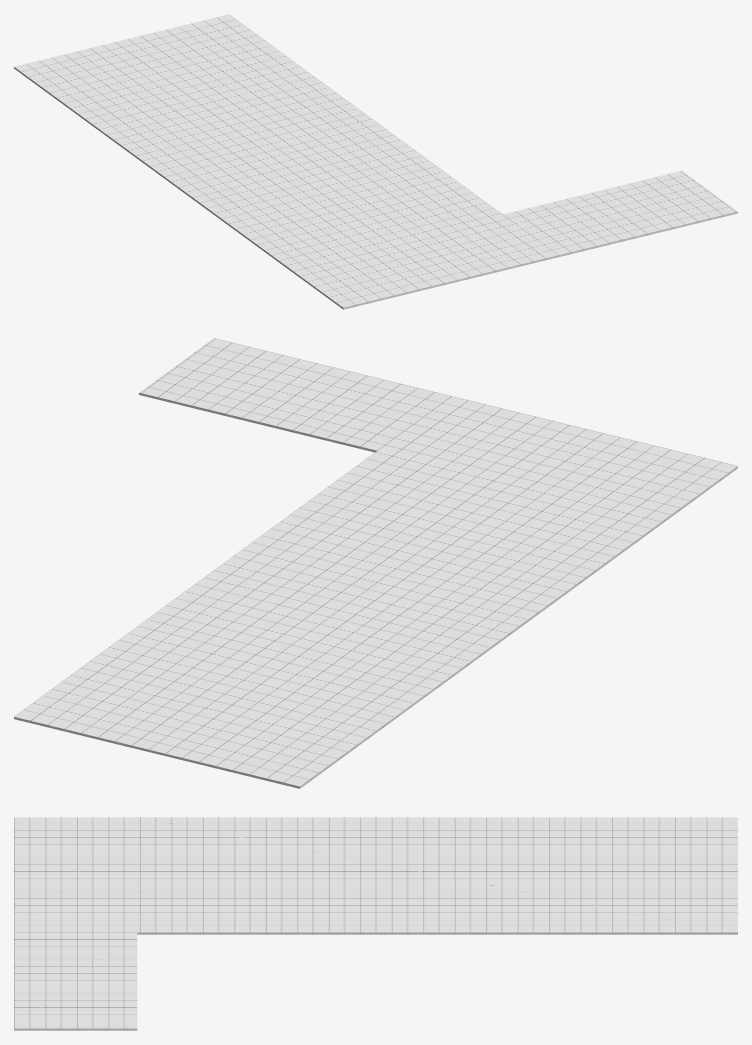
Rendered from Floor.FBX.
3 views of the same model, one above another, from view 1: azimuth 30°, elevation 25°; view 2: azimuth 150°, elevation 25°; view 3: azimuth 270°, elevation 25° (orthographic). The views are drawn at different scales.
Parts seen in each view (by area): view 1: Floor; view 2: Floor; view 3: Floor.
Boxes of the visible parts, box(x1,y1,x2,y2) form: Floor: box(14, 14, 737, 309); Floor: box(14, 338, 737, 788); Floor: box(14, 817, 737, 1030).
Bounding box in the file's own units: 1292 × 5.6 × 1870.
1 material, 1 textured.
